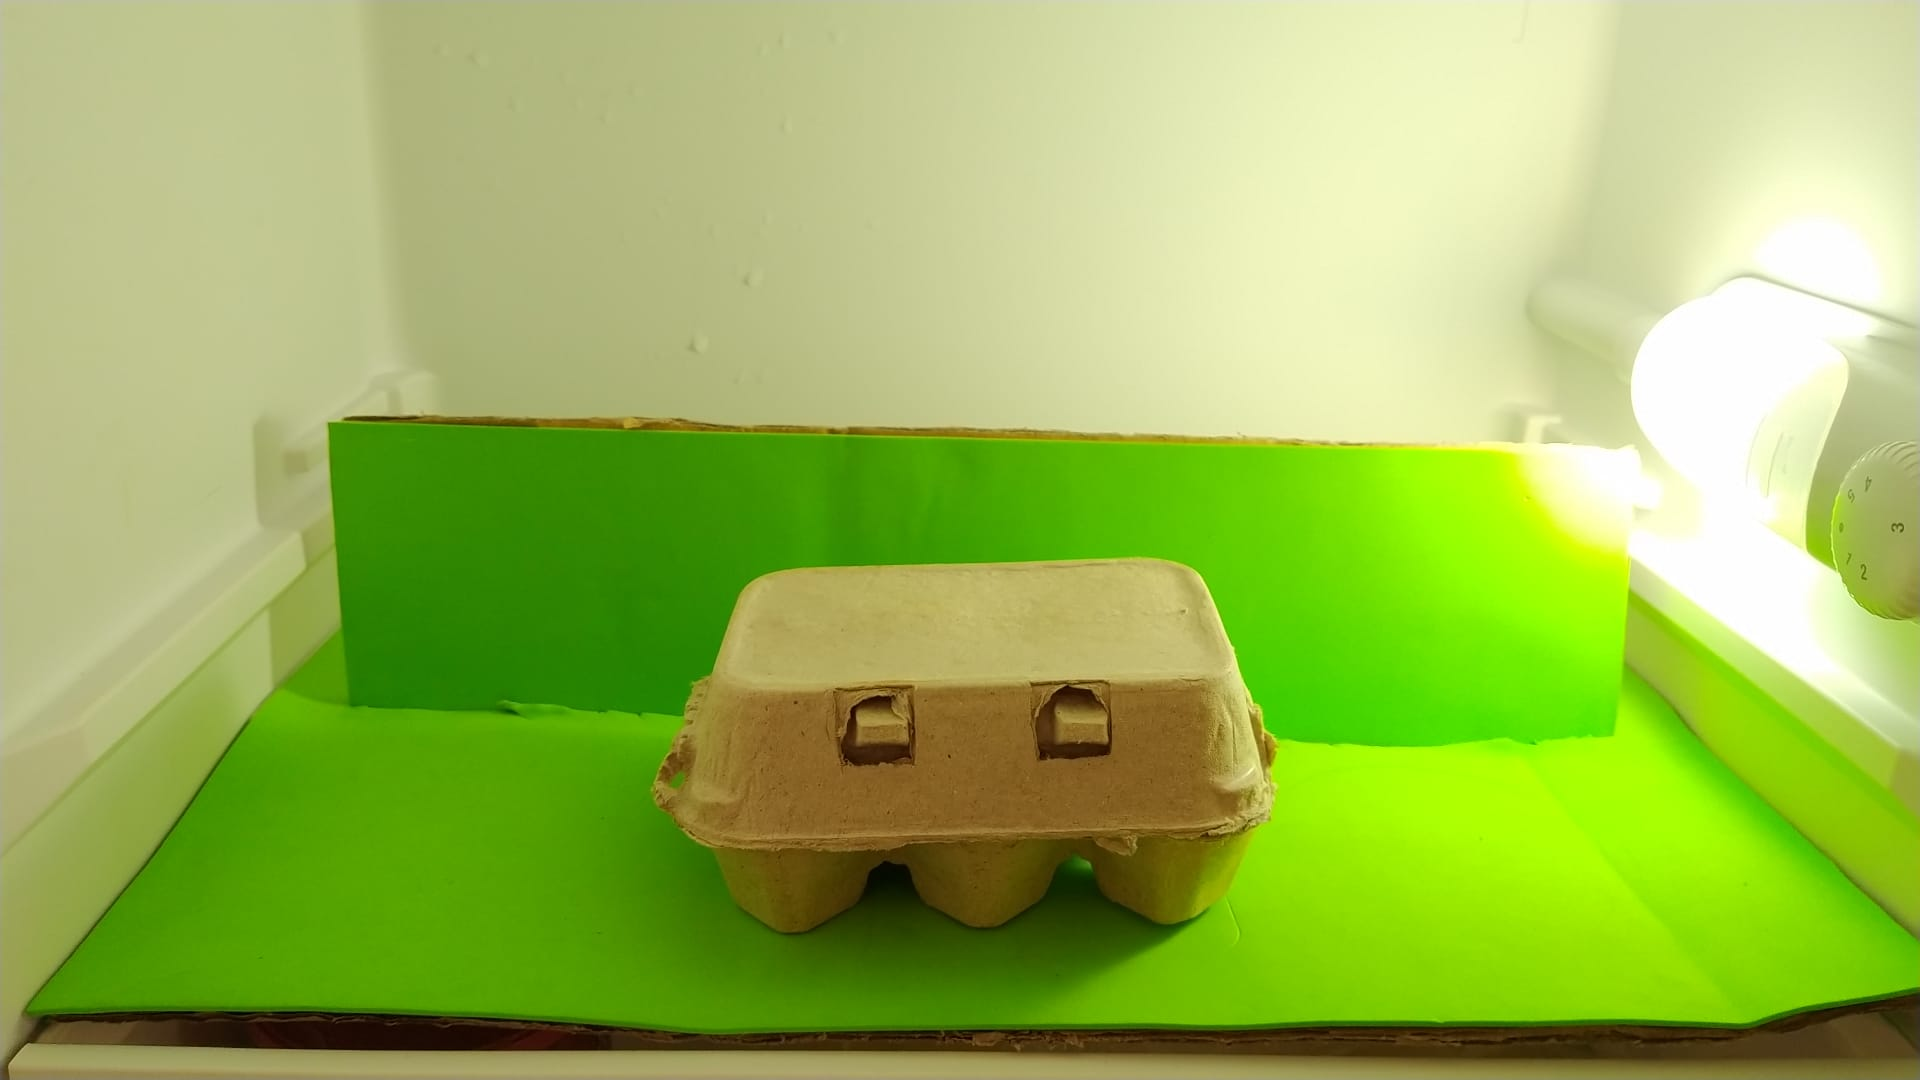egg: (647, 556, 1276, 938)
